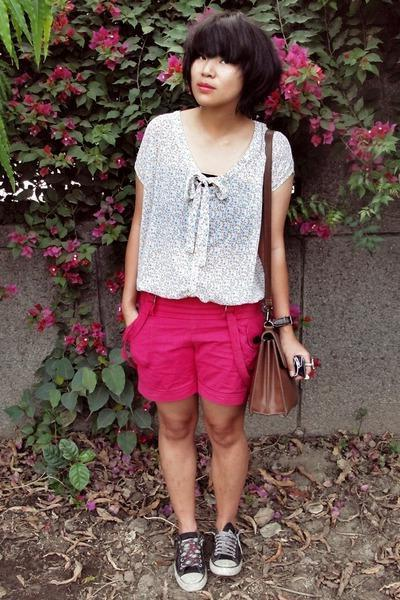Shorts: (122, 292, 271, 404)
short sleeve shirt: (132, 111, 296, 307)
